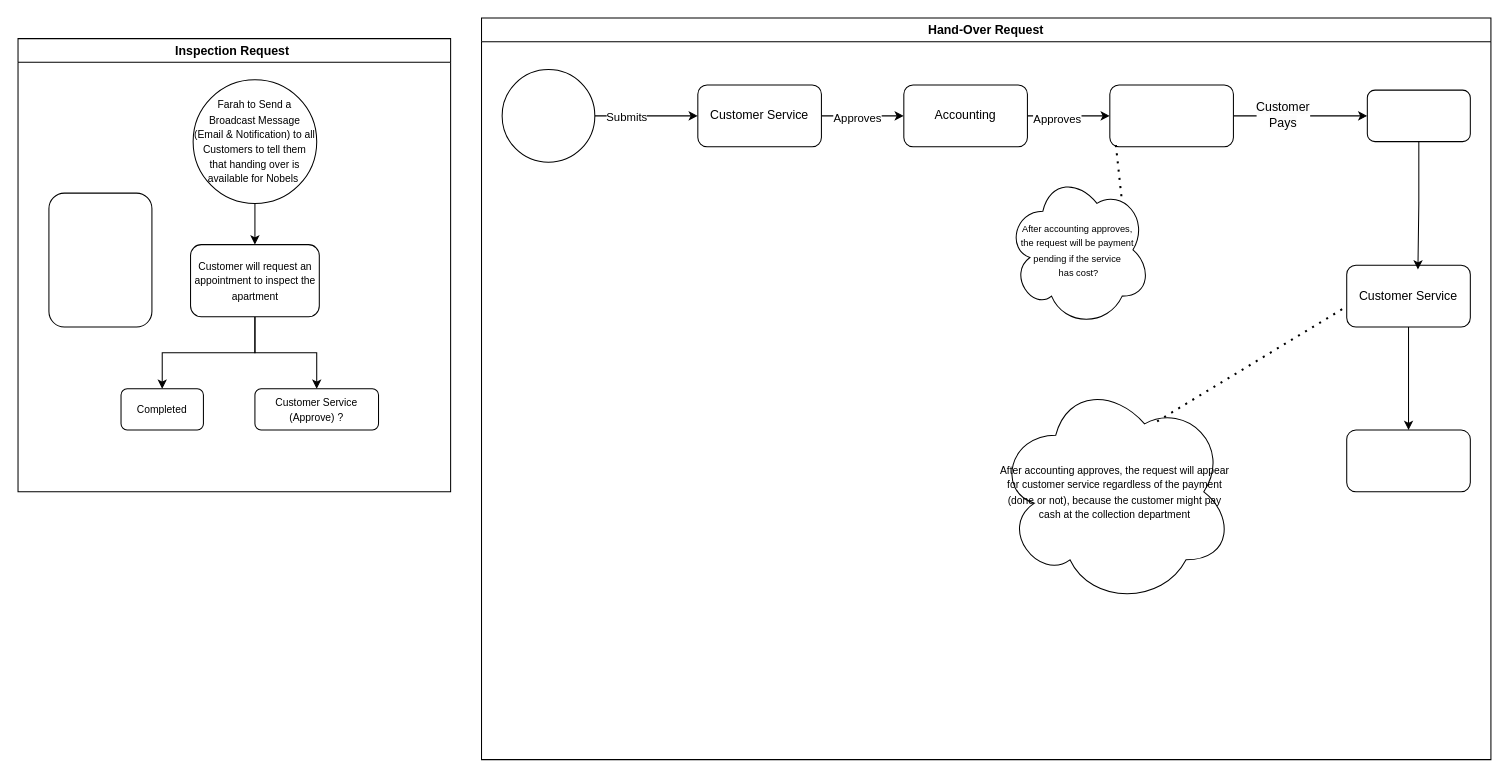
Some shapes in this 1509 by 778 pixel diagram are drawn without their labels. Here are the shapes that lost their labels. From the top down, the centre of each, then its label:
At point (548, 115): "Customer initiates a Unit Hand-Over Request".
At point (1171, 115): "Payment Pending".
At point (1418, 115): "Paid".
At point (100, 259): "Nermin to assign a manager for each tower (Tarek/Maher)".
At point (1408, 460): "Pending Review (by customer from the app)".
